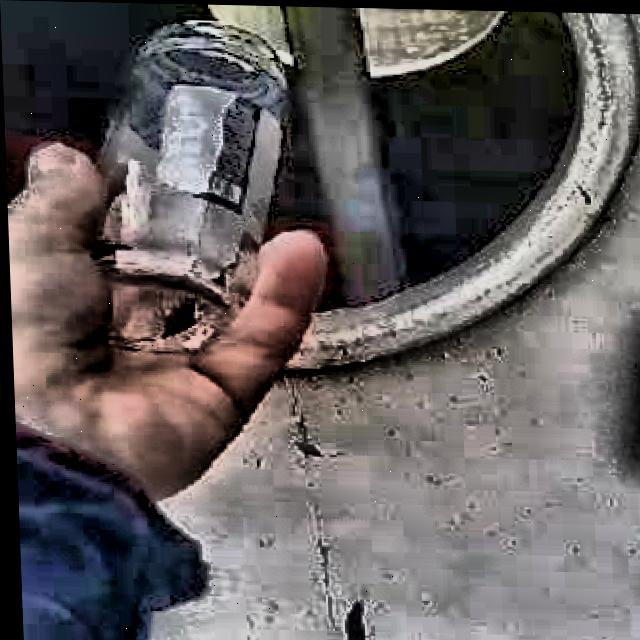glass: (98, 20, 282, 352)
